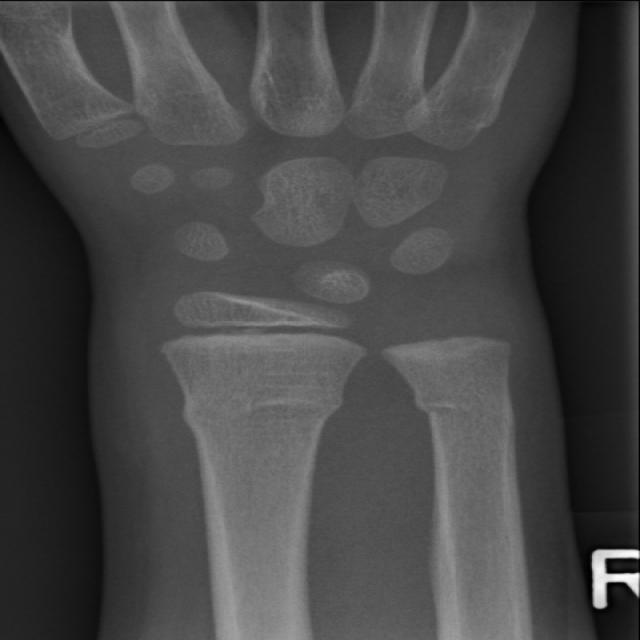radius fracture: (141, 374, 385, 494)
ulna fracture: (388, 362, 532, 518)
